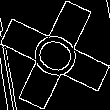O_SE: (22, 24, 88, 86)
